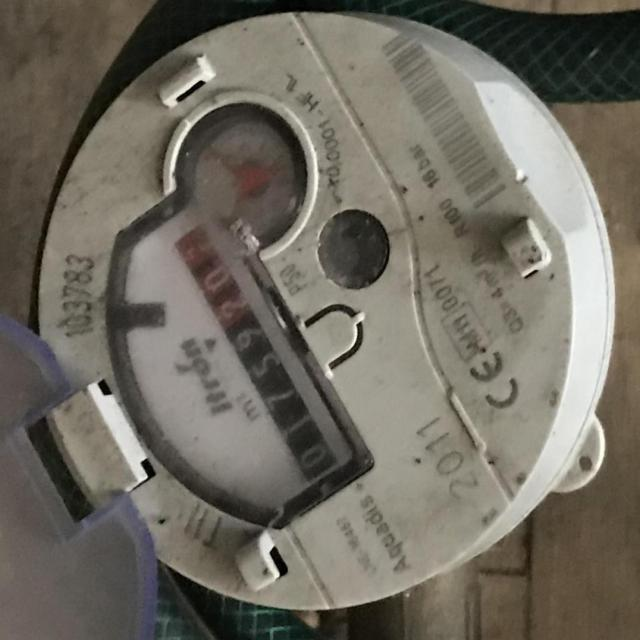gaz_meter: (41, 14, 617, 610)
indication: (170, 222, 338, 485)
